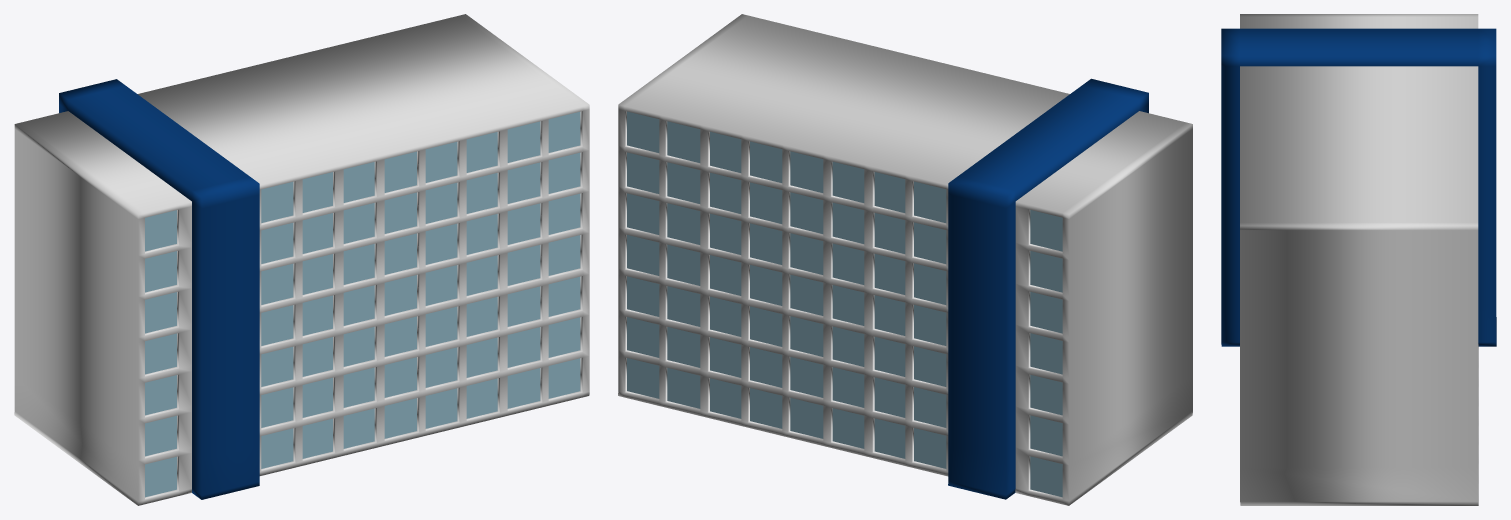
File: small_building_blue.fbx
3 views of the same model, side by side, from view 1: azimuth 30°, elevation 25°; view 2: azimuth 150°, elevation 25°; view 3: azimuth 270°, elevation 25° (orthographic). The views are drawn at different scales.
Parts seen in each view (by area): view 1: Cube, Cube_001, Cube_002; view 2: Cube, Cube_001, Cube_002; view 3: Cube, Cube_002.
Part boxes in pixels (x1,y1,x2,y2): Cube: (14, 14, 589, 505); Cube_001: (145, 112, 580, 497); Cube_002: (59, 79, 259, 499); Cube: (618, 14, 1192, 505); Cube_001: (627, 111, 1062, 497); Cube_002: (948, 78, 1148, 499); Cube: (1240, 14, 1478, 505); Cube_002: (1221, 28, 1496, 346).
Size of the model in its own units: 33 by 21.13 by 18.14.
